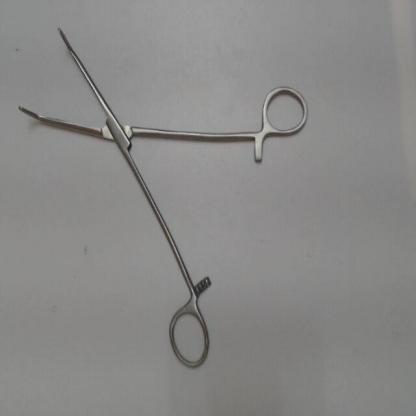Lahey Forceps: (11, 13, 319, 381)
